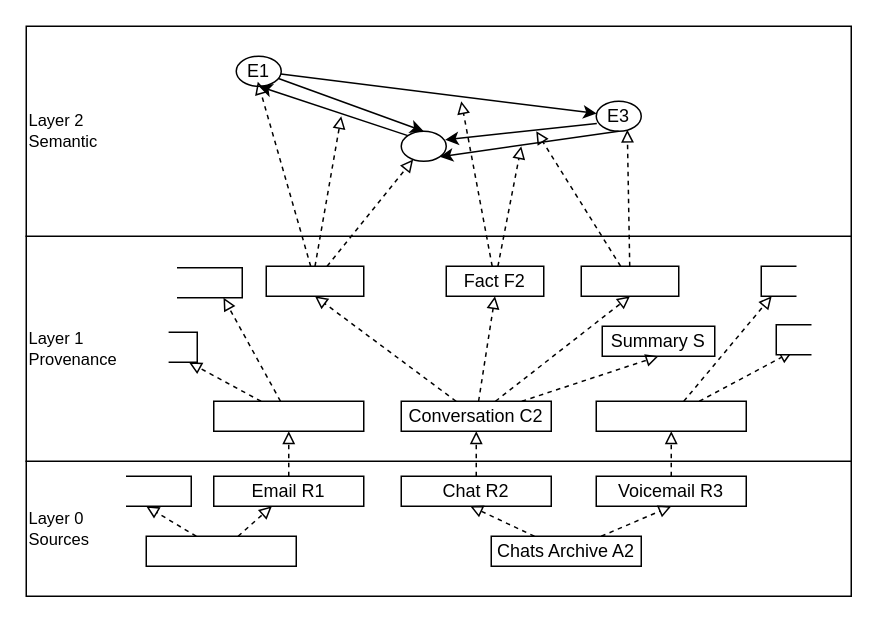
Some shapes in this 878 by 623 pixel diagram are drawn without their labels. The shapes that lost their labels are listed below. From the top down, each one's centre as x and y in pixels, then its label:
pixel 423 145: E2
pixel 314 280: Fact F1
pixel 629 280: Fact F3
pixel 288 415: Conversation C1
pixel 670 415: Conversation C3
pixel 220 550: Emails Archive A1
